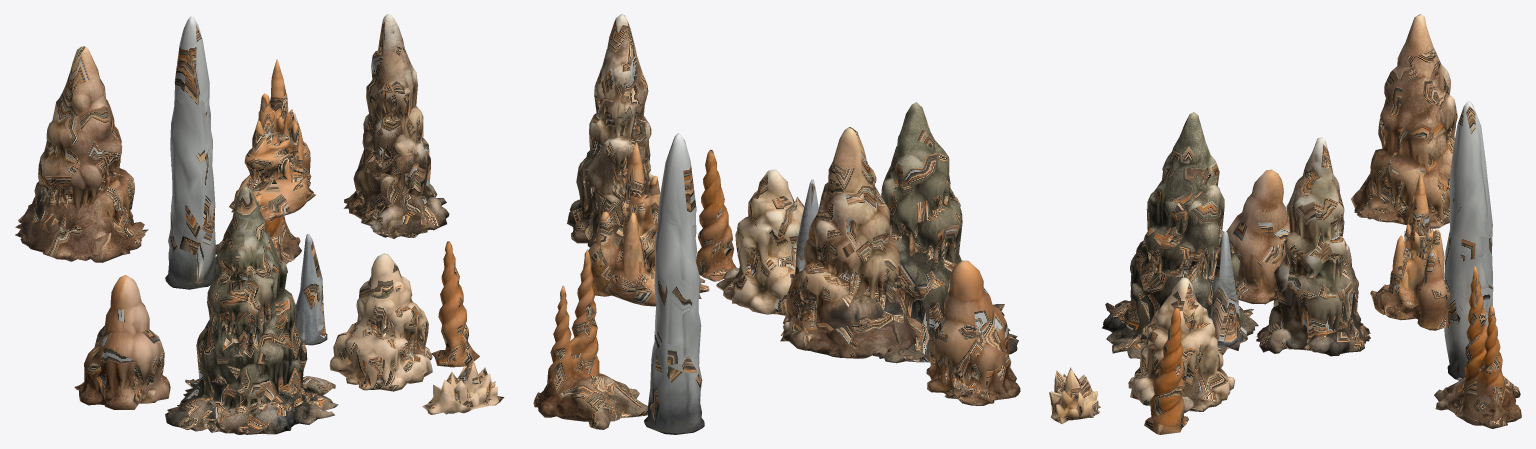
File: Cave_Structures_1.glb
The picture shows the model from 3 angles, left to right: view 1: azimuth 30°, elevation 25°; view 2: azimuth 150°, elevation 25°; view 3: azimuth 270°, elevation 25°; orthographic projection. The views are drawn at different scales.
Visible parts, largest first — view 1: Cave_Structures_1; view 2: Cave_Structures_1; view 3: Cave_Structures_1.
Part boxes in pixels (x1,y1,x2,y2): Cave_Structures_1: [15, 14, 504, 434]; Cave_Structures_1: [533, 14, 1020, 434]; Cave_Structures_1: [1049, 14, 1521, 434].
Size of the model in its own units: 1.79 by 1.3 by 1.89.
1 material, 1 textured.
